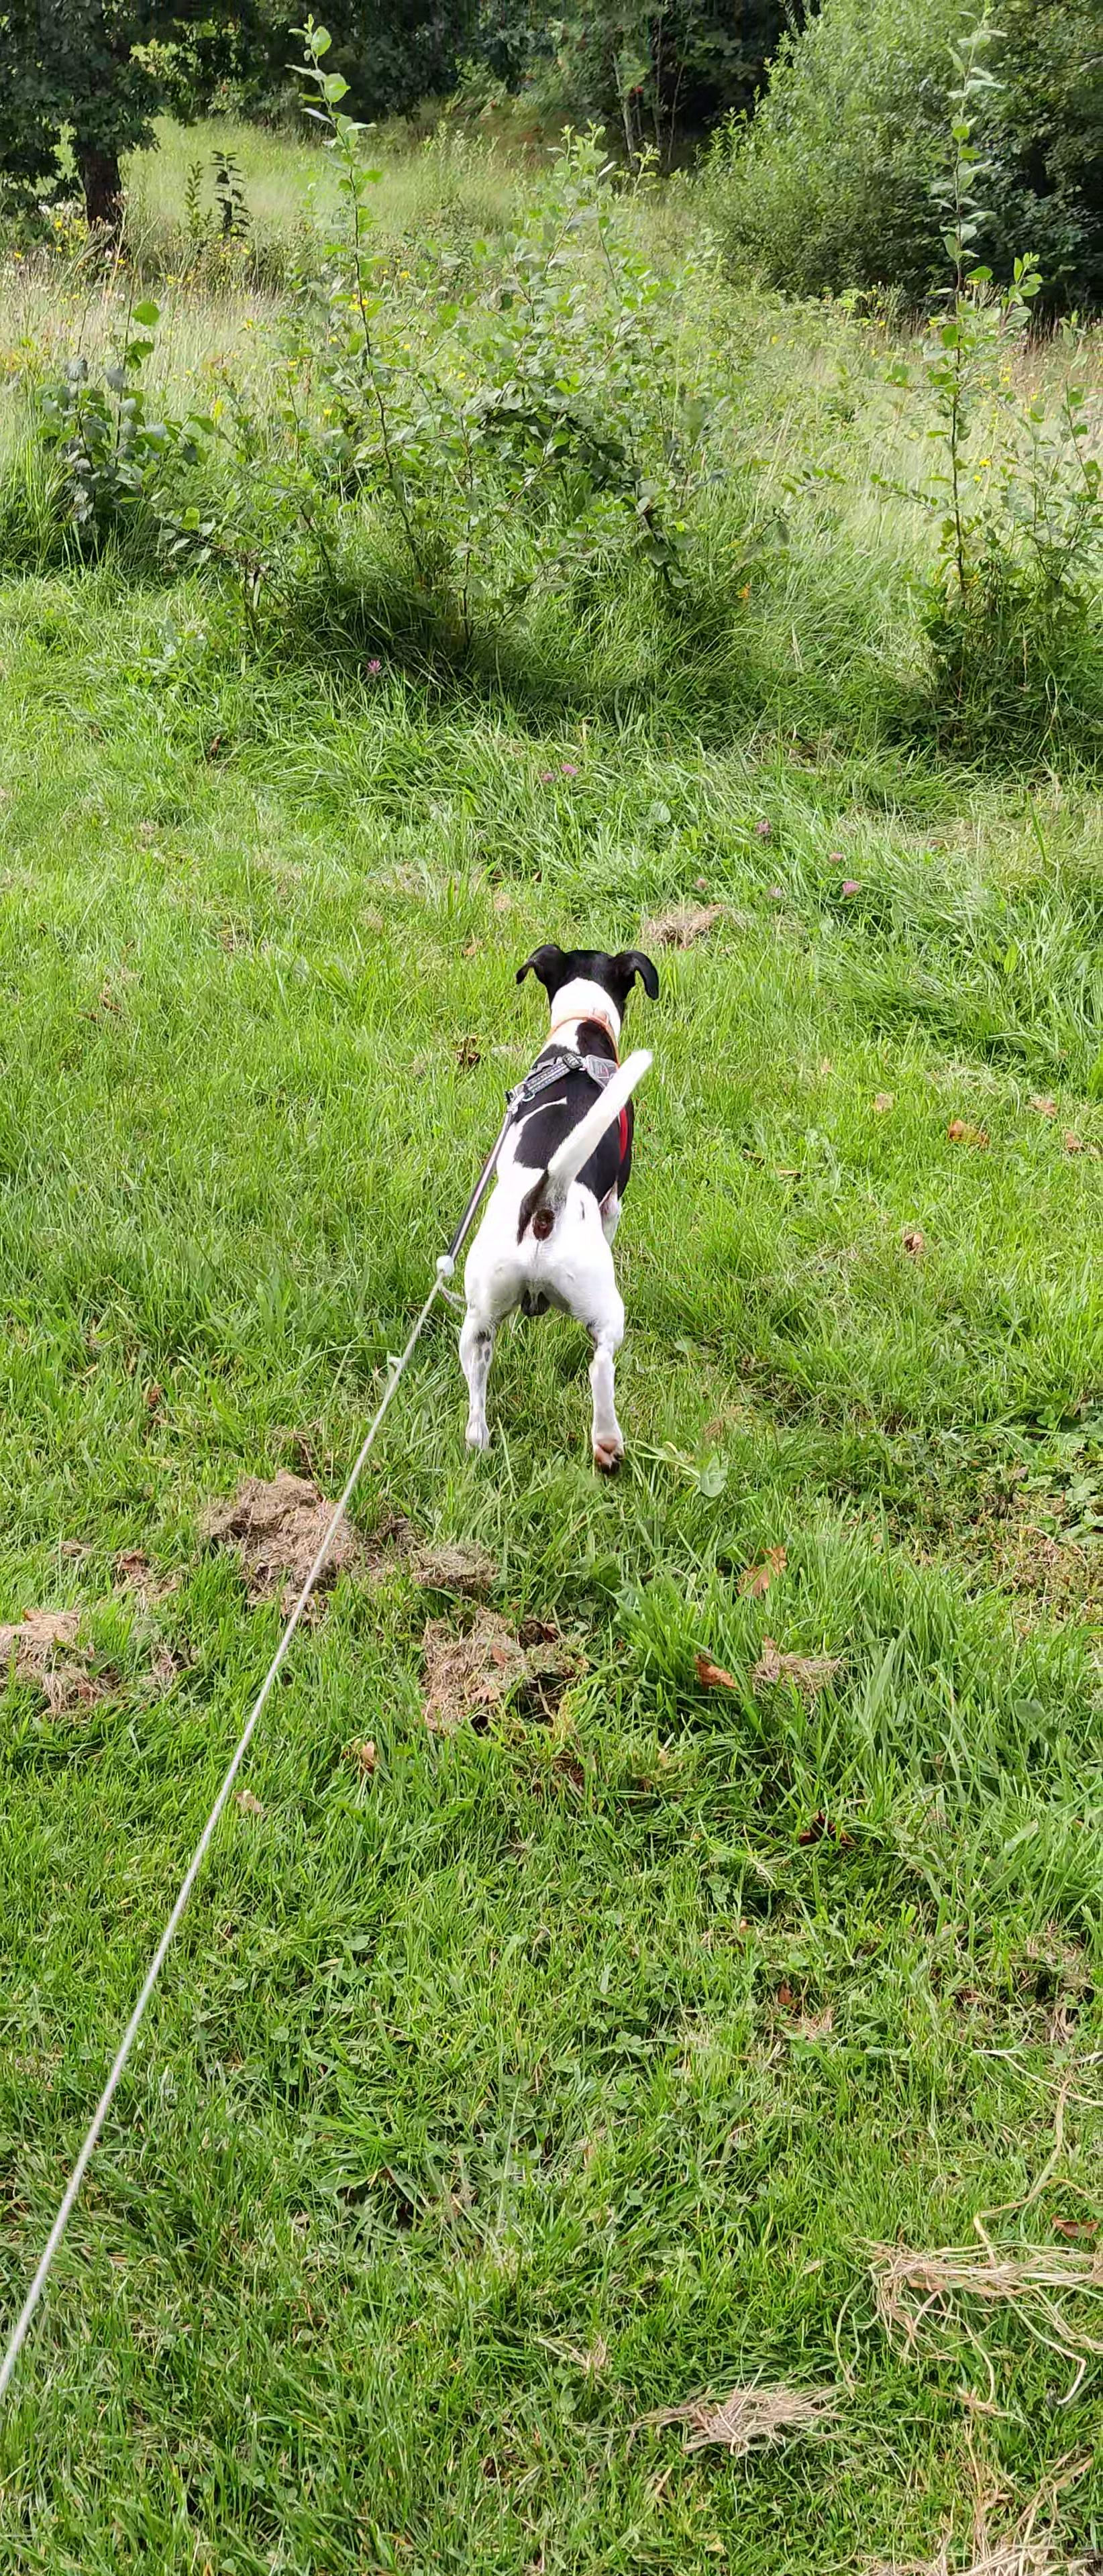Dog: (450, 940, 669, 1483)
